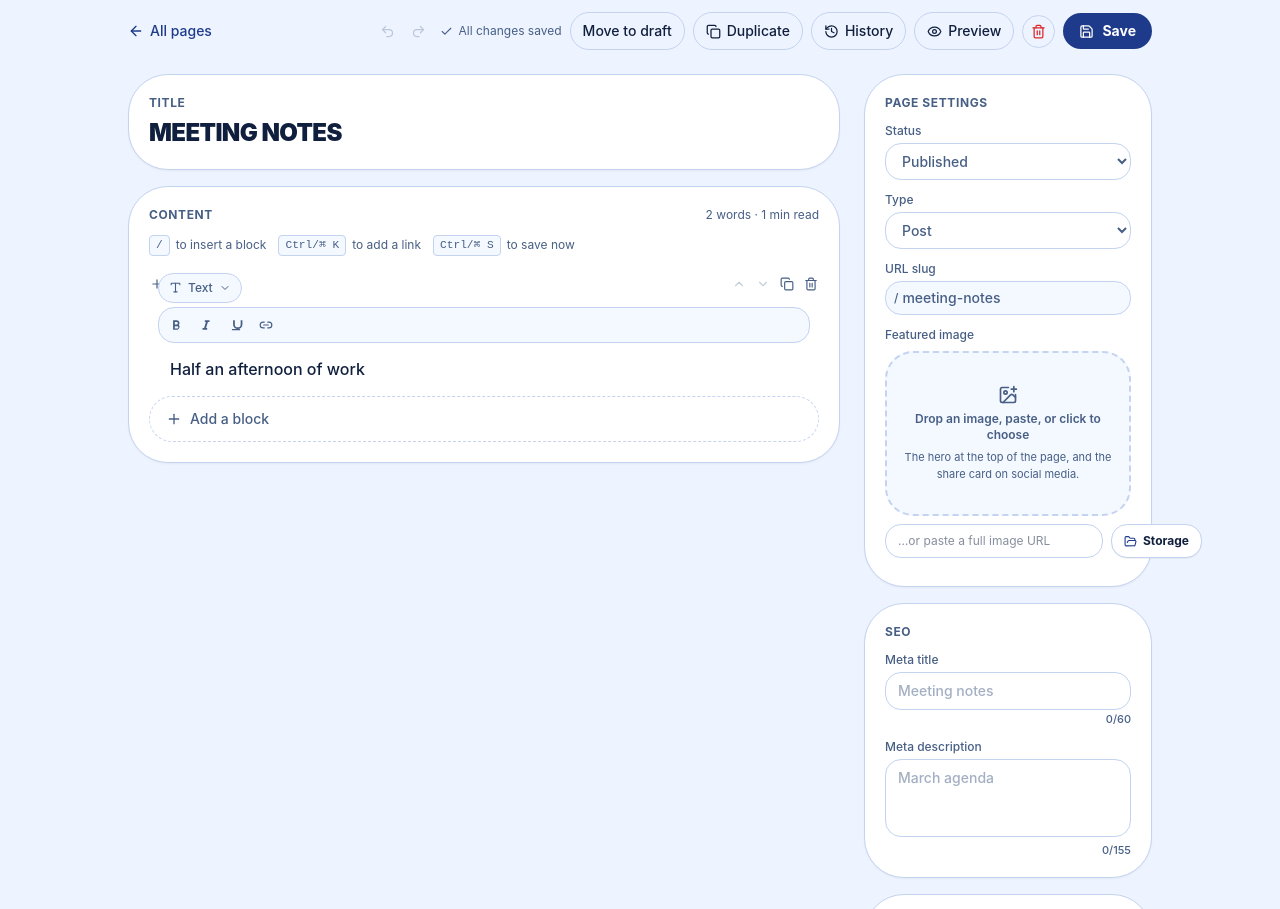
Test: The editor cannot silently lose, unpublish, or misreport a page › names a failed manual save as a save failure, not an autosave failure
Clear the field labelled "Half an afternoon of work" at (267,369), box x1=170 y1=359 x2=365 y2=379
Wait 200 ms
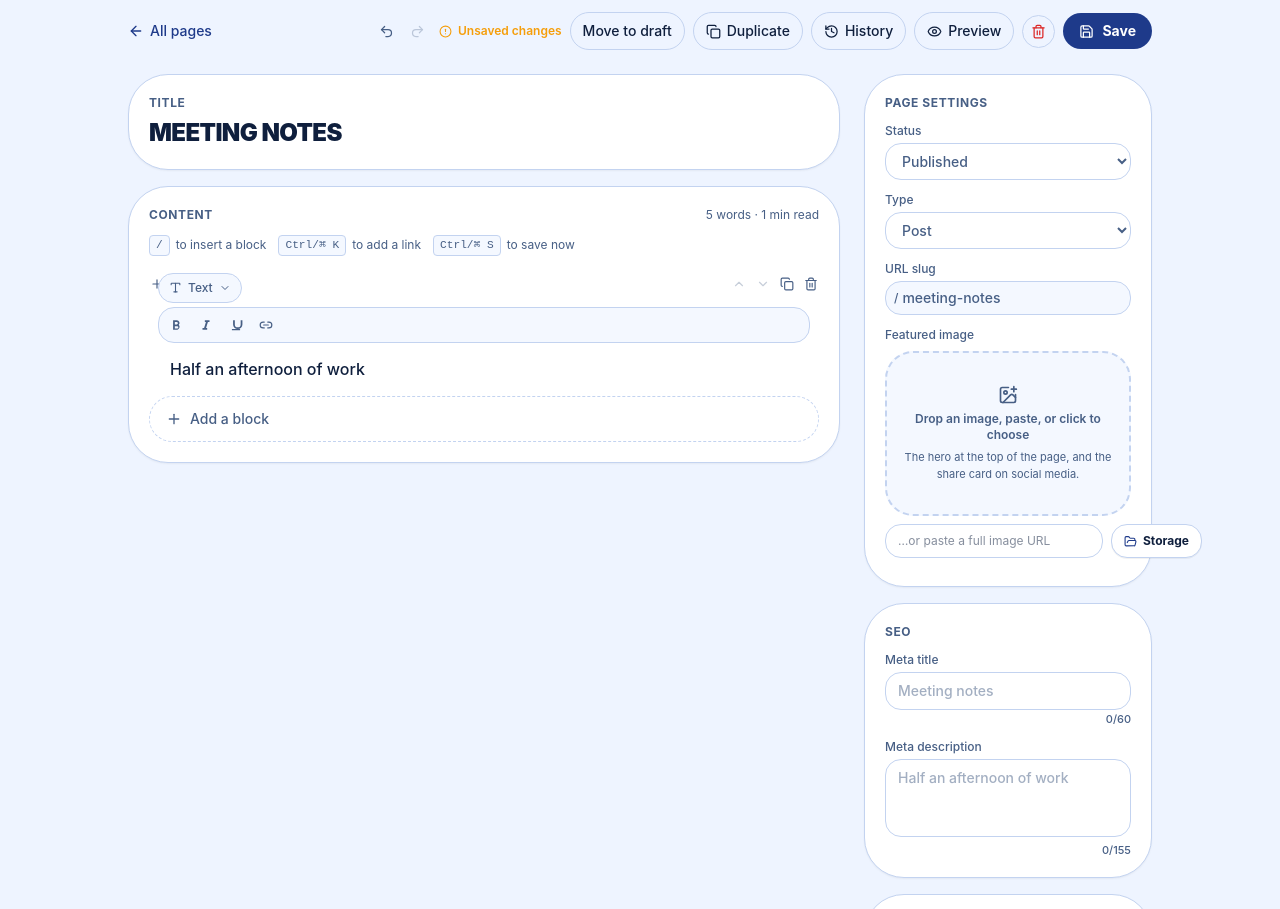
Click the button "Save" at (1108,31), box x1=1064 y1=13 x2=1152 y2=49
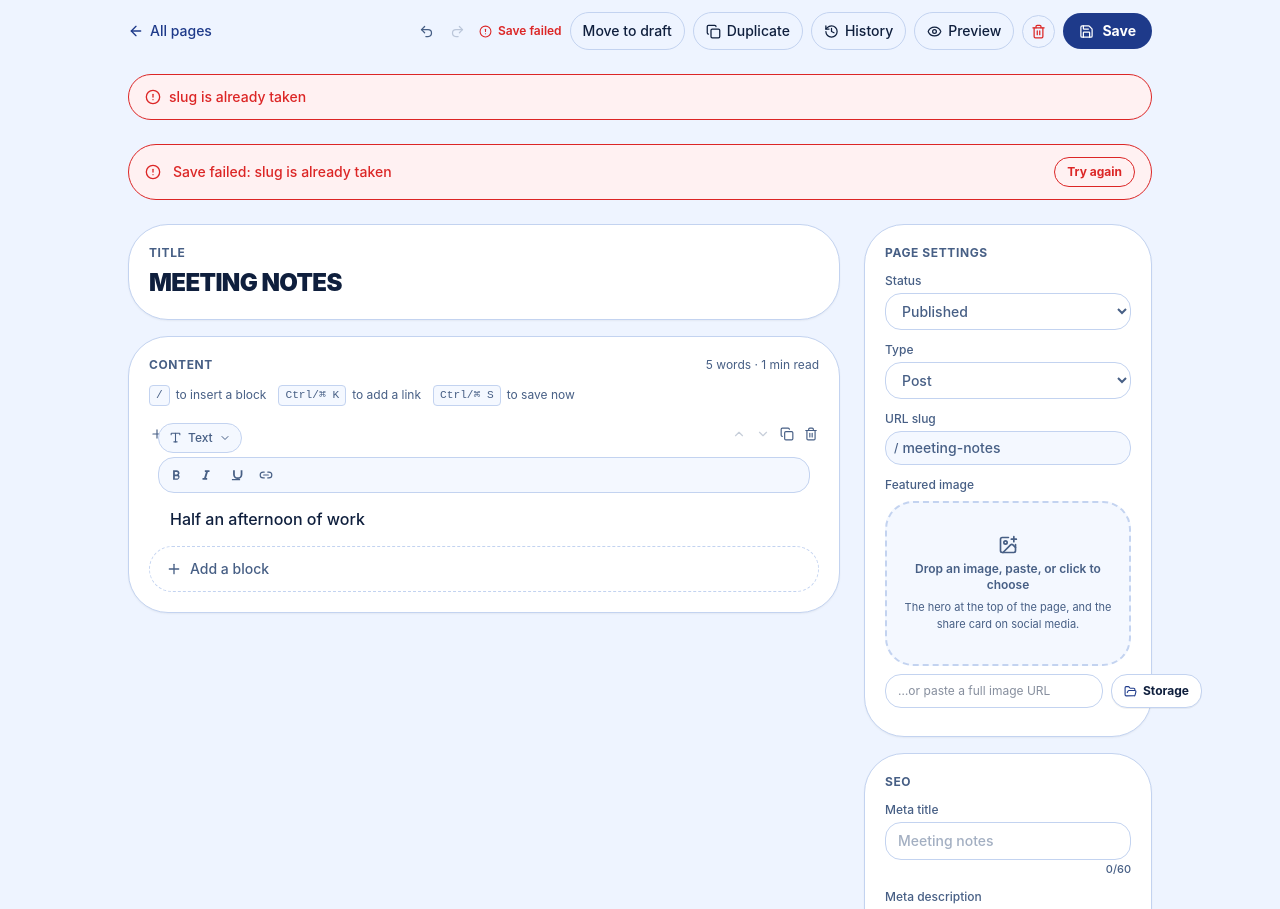
Now the text "Save failed: slug is already taken" is shown, box x1=173 y1=163 x2=392 y2=180
Now the message "Save failed: slug is already taken Try again" is shown, box x1=128 y1=144 x2=1152 y2=200
